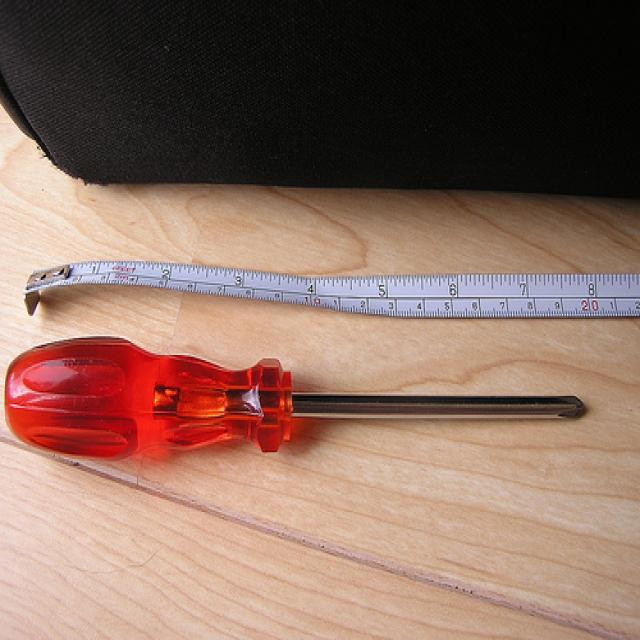screw driver: (0, 314, 614, 514)
